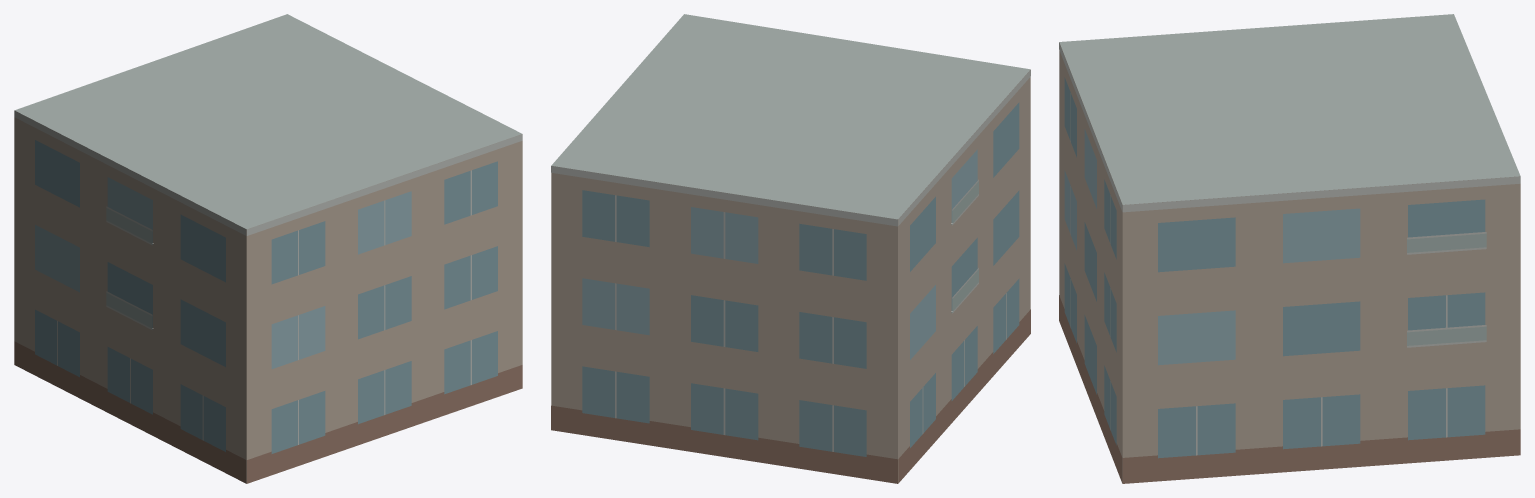
Rendered from survey-upis-32612387.glb.
3 renders of one model, left to right at view 1: azimuth 30°, elevation 25°; view 2: azimuth 150°, elevation 25°; view 3: azimuth 270°, elevation 25°, orthographic. The views are drawn at different scales.
Visible parts, largest first — view 1: survey-upis-32612387.tmp; view 2: survey-upis-32612387.tmp; view 3: survey-upis-32612387.tmp.
Part boxes in pixels (box(x1,y1,x2,y2)): survey-upis-32612387.tmp: box(14, 14, 522, 483); survey-upis-32612387.tmp: box(551, 14, 1030, 483); survey-upis-32612387.tmp: box(1059, 14, 1520, 483).
Bounding box in the file's own units: 13.44 × 9.15 × 13.73.
